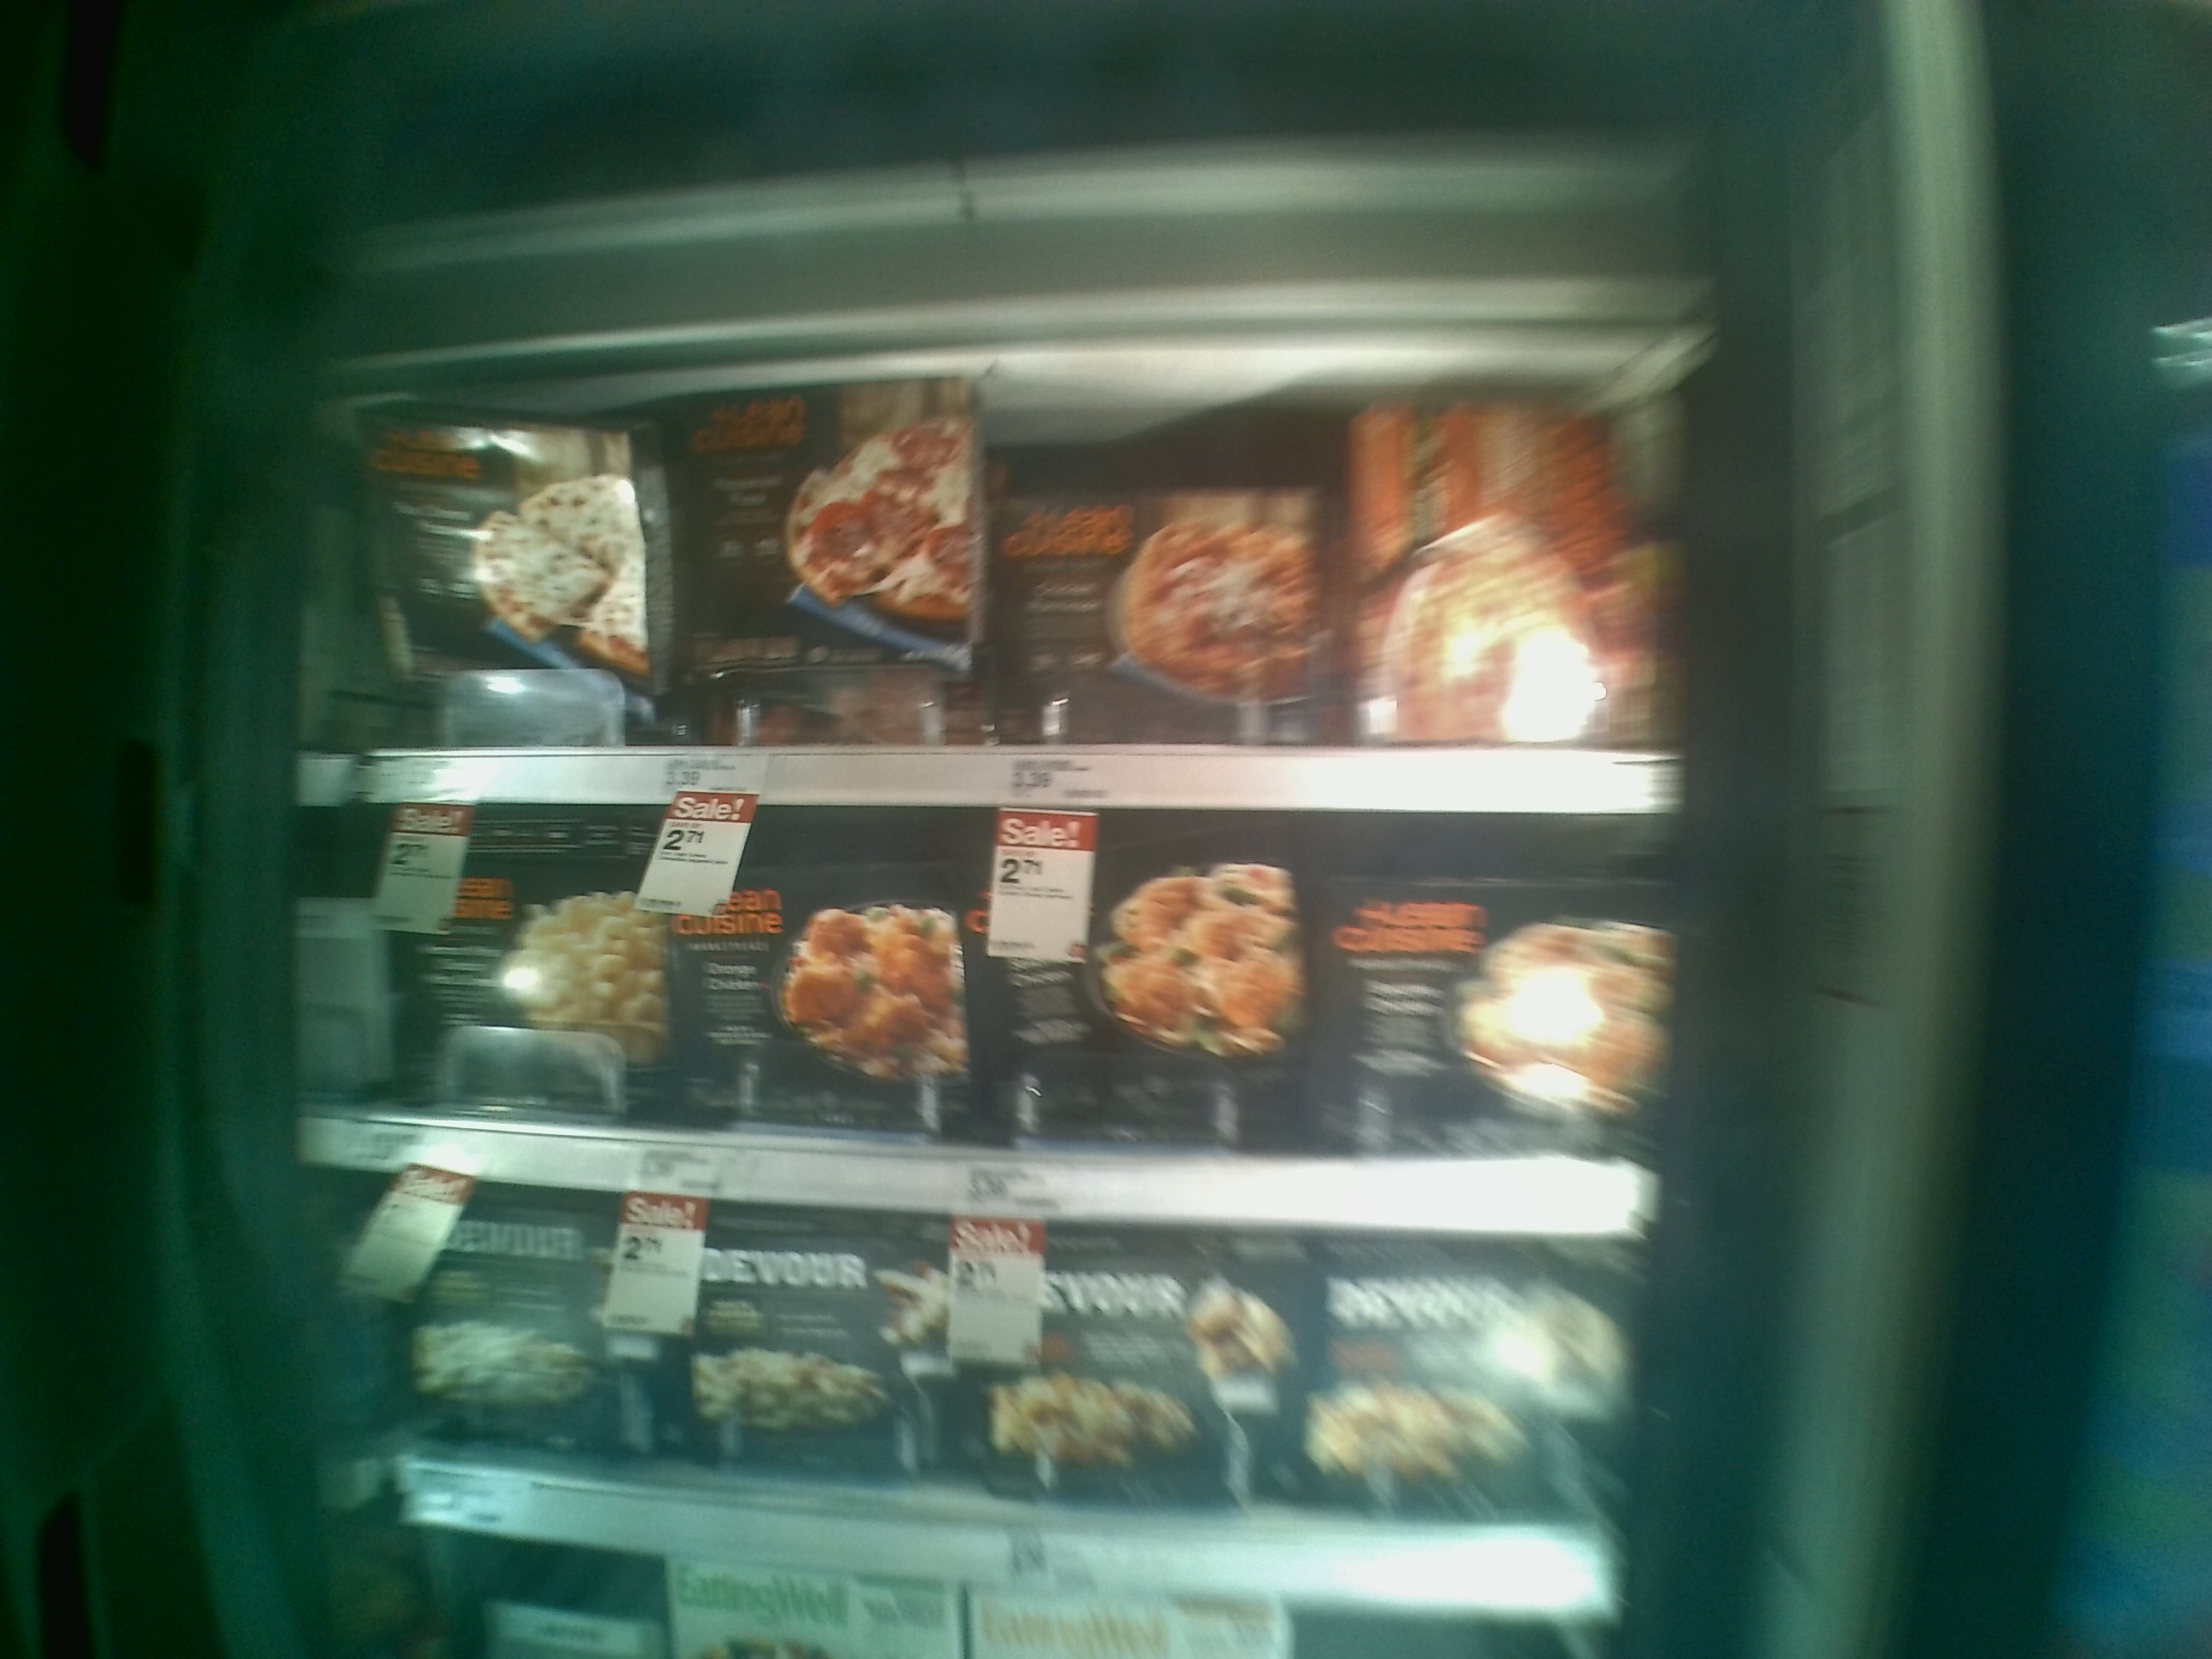shelf: (310, 349, 1679, 812), (289, 805, 1655, 1239)
